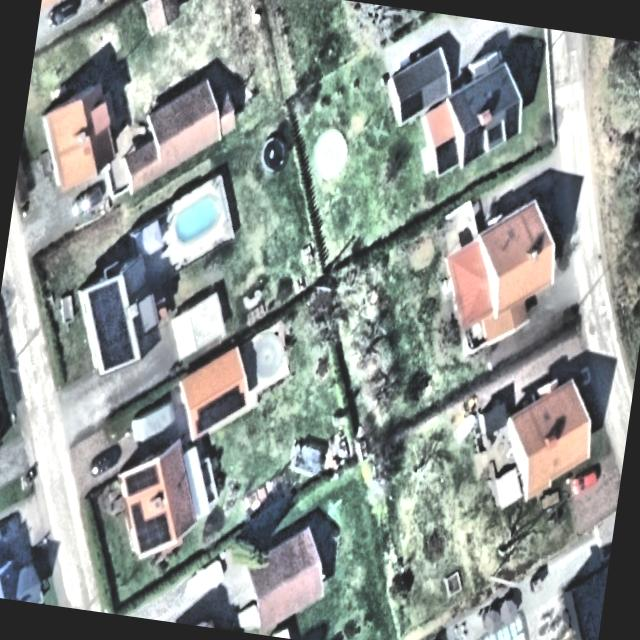roof_pv: (84, 316, 140, 376), (128, 508, 178, 558), (85, 277, 135, 324), (121, 458, 165, 504), (430, 128, 466, 180), (192, 387, 224, 441), (218, 380, 252, 430), (398, 88, 430, 128), (500, 101, 526, 141), (463, 127, 489, 162), (125, 500, 150, 522)
